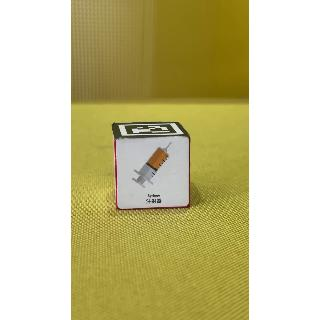Syringe: (118, 137, 194, 212)
